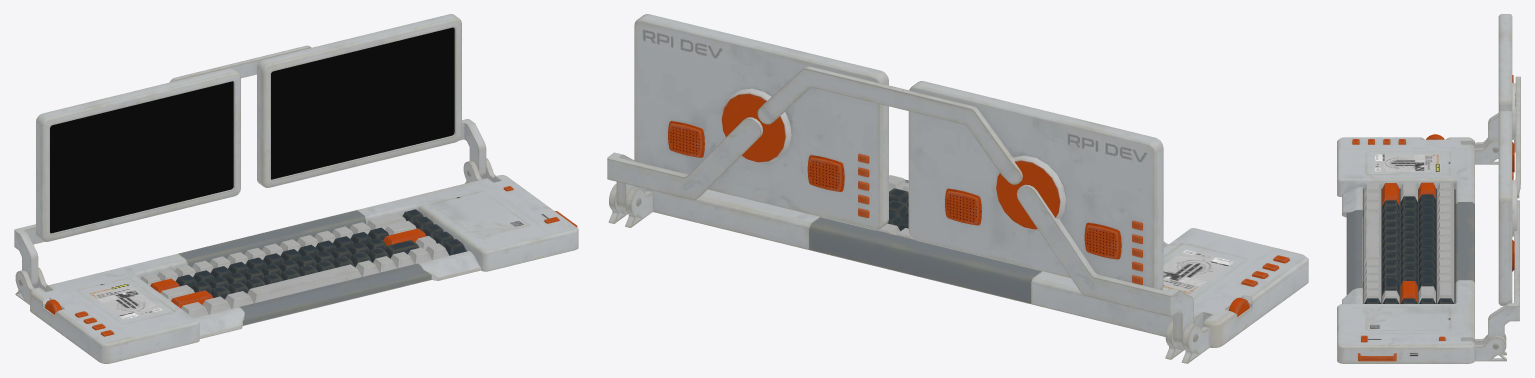
The model's file is cyberdeck_computer-transformed.glb.
3 views of the same model, side by side, from view 1: azimuth 30°, elevation 25°; view 2: azimuth 150°, elevation 25°; view 3: azimuth 270°, elevation 25° (orthographic). The views are drawn at different scales.
Parts seen in each view (by area): view 1: Computer_Sec7_Sector7_RasPie_0, Monitor_2, Monitor_1, Computer_Sec7_Back; view 2: Monitor_1, Monitor_2, Computer_Sec7_Sector7_RasPie_0, Computer_Sec7_Back; view 3: Computer_Sec7_Sector7_RasPie_0, Monitor_1, Computer_Sec7_Back, Monitor_2.
Boxes of the visible parts, x1=… form: Computer_Sec7_Sector7_RasPie_0: x1=15, y1=158, x2=578, y2=363; Monitor_2: x1=36, y1=68, x2=240, y2=241; Monitor_1: x1=257, y1=14, x2=461, y2=187; Computer_Sec7_Back: x1=14, y1=45, x2=486, y2=286; Monitor_1: x1=634, y1=14, x2=888, y2=230; Monitor_2: x1=908, y1=81, x2=1163, y2=289; Computer_Sec7_Sector7_RasPie_0: x1=608, y1=175, x2=1308, y2=363; Computer_Sec7_Back: x1=607, y1=66, x2=1193, y2=344; Computer_Sec7_Sector7_RasPie_0: x1=1337, y1=134, x2=1506, y2=363; Monitor_1: x1=1498, y1=111, x2=1517, y2=305; Computer_Sec7_Back: x1=1488, y1=76, x2=1520, y2=339; Monitor_2: x1=1498, y1=14, x2=1515, y2=172.
Bounding box in the file's own units: 0.8162 × 0.2766 × 0.2975.
Materials: 1 (1 with a texture image).
